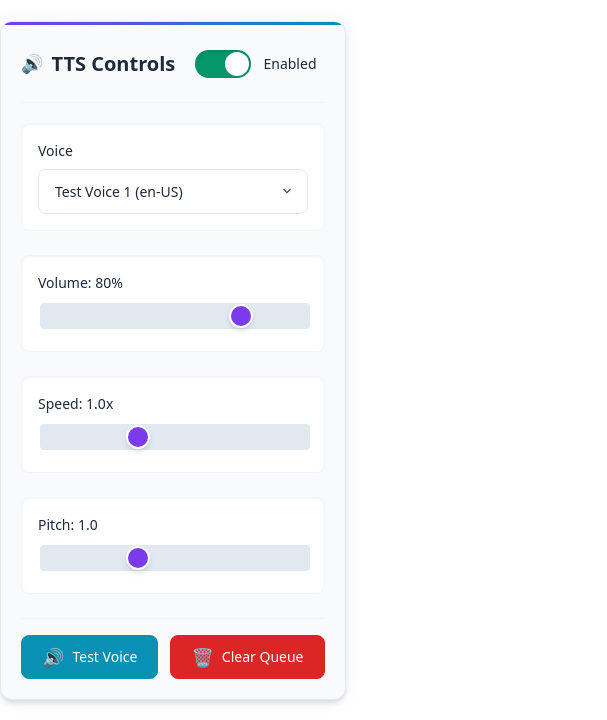
it: TTSControls › shows clear queue confirmation
Click clear button
Click the button "🗑️ Clear Queue". click: (247, 656)
box: [170,634,324,678]
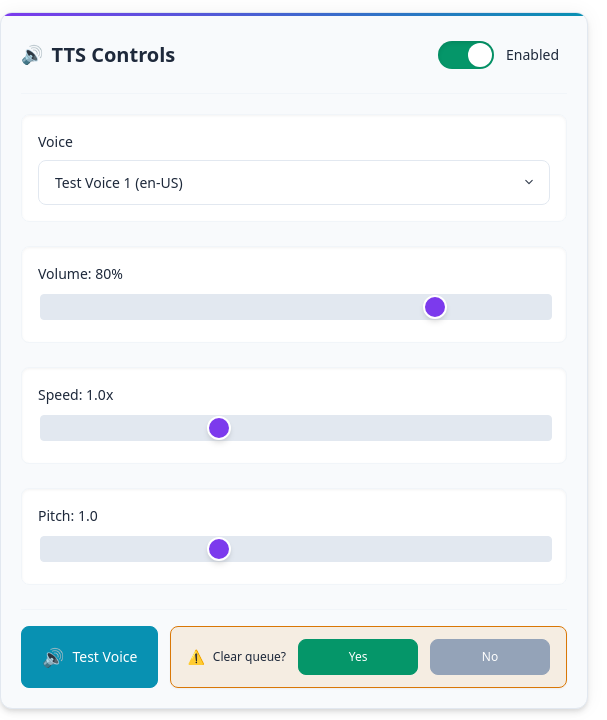
Now the text "Clear queue?" is shown, box [187,646,286,667]
Now the button "Yes" is shown, box [298,638,418,674]
Now the button "No" is shown, box [430,638,550,674]
